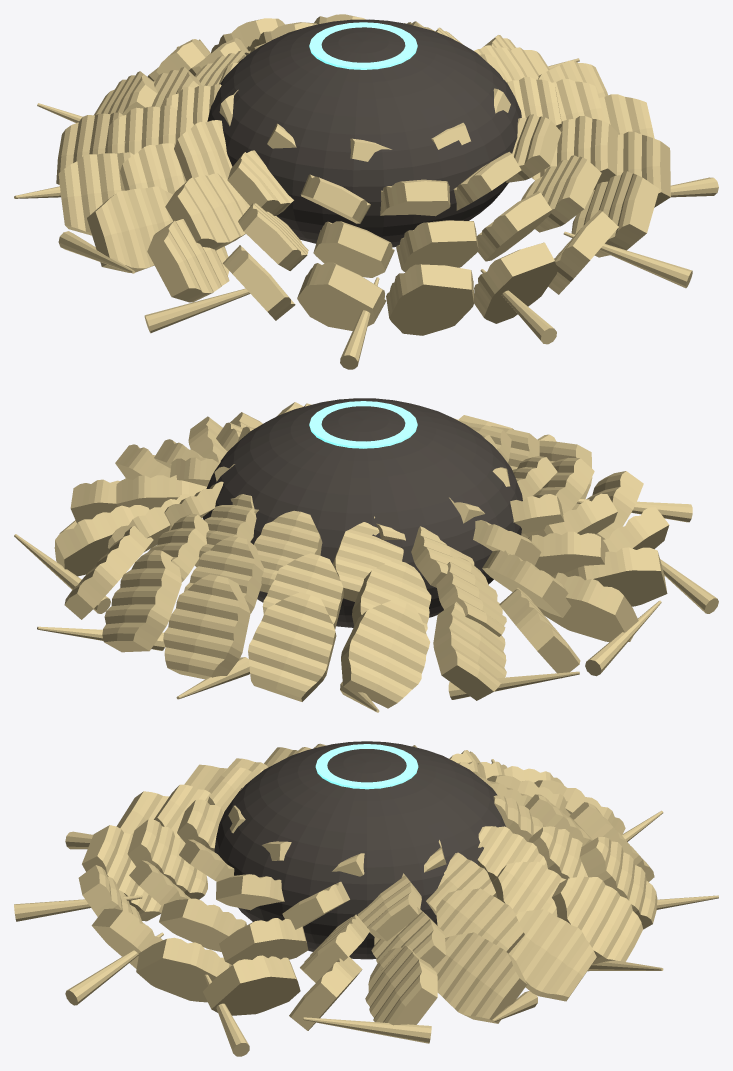
File: snail_3d.glb
The picture shows the model from 3 angles, top to bottom: view 1: azimuth 30°, elevation 25°; view 2: azimuth 150°, elevation 25°; view 3: azimuth 270°, elevation 25°; orthographic projection. The views are drawn at different scales.
Visible parts, largest first — view 1: Snail_Core, Scale_L4_13, Scale_L4_9, Scale_L4_10, Scale_L3_9, Scale_L4_12, Scale_L4_14, Scale_L4_16, Scale_L4_8, Scale_L3_12, Scale_L3_14, Scale_L3_11 (+38 smaller); view 2: Snail_Core, Scale_L4_5, Scale_L4_6, Scale_L4_4, Scale_L4_3, Scale_L4_7, Scale_L4_9, Scale_L4_10, Scale_L4_1, Scale_L2_3, Scale_L3_5, Scale_L3_7 (+36 smaller); view 3: Snail_Core, Scale_L4_1, Scale_L4_2, Scale_L4_3, Scale_L4_0, Scale_L4_17, Scale_L4_16, Scale_L3_2, Scale_L4_4, Scale_L3_12, Scale_L4_13, Scale_L3_15 (+33 smaller).
Part boxes in pixels (box(x1,y1,x2,y2)): Snail_Core: box(207, 19, 521, 247); Scale_L4_13: box(386, 264, 473, 335); Scale_L4_9: box(87, 186, 173, 272); Scale_L4_10: box(147, 219, 229, 302); Scale_L3_9: box(165, 173, 249, 250); Scale_L4_12: box(297, 262, 386, 330); Scale_L4_14: box(474, 242, 557, 323); Scale_L4_16: box(571, 171, 659, 257); Scale_L4_8: box(58, 152, 133, 235); Scale_L3_12: box(396, 220, 478, 272); Scale_L3_14: box(521, 155, 601, 232); Scale_L3_11: box(313, 221, 394, 277); Snail_Core: box(203, 398, 522, 627); Scale_L4_5: box(248, 592, 336, 701); Scale_L4_6: box(341, 599, 430, 708); Scale_L4_4: box(163, 574, 250, 679); Scale_L4_3: box(102, 550, 181, 652); Scale_L4_7: box(433, 602, 506, 700); Scale_L4_9: box(537, 572, 638, 642); Scale_L4_10: box(564, 547, 667, 606); Scale_L4_1: box(54, 505, 149, 576); Scale_L2_3: box(254, 510, 322, 592); Scale_L3_5: box(262, 553, 343, 629); Scale_L3_7: box(436, 557, 506, 636); Snail_Core: box(214, 741, 505, 959); Scale_L4_1: box(433, 932, 527, 1023); Scale_L4_2: box(508, 909, 596, 1001); Scale_L4_3: box(552, 876, 643, 964); Scale_L4_0: box(365, 945, 437, 1025); Scale_L4_17: box(203, 955, 300, 1015); Scale_L4_16: box(136, 937, 231, 1002); Scale_L3_2: box(436, 888, 524, 953); Scale_L4_4: box(580, 837, 657, 929); Scale_L3_12: box(127, 819, 207, 899); Scale_L4_13: box(82, 825, 162, 921); Scale_L3_15: box(219, 918, 308, 964).
Size of the model in its own units: 4.14 by 1.36 by 4.68.
